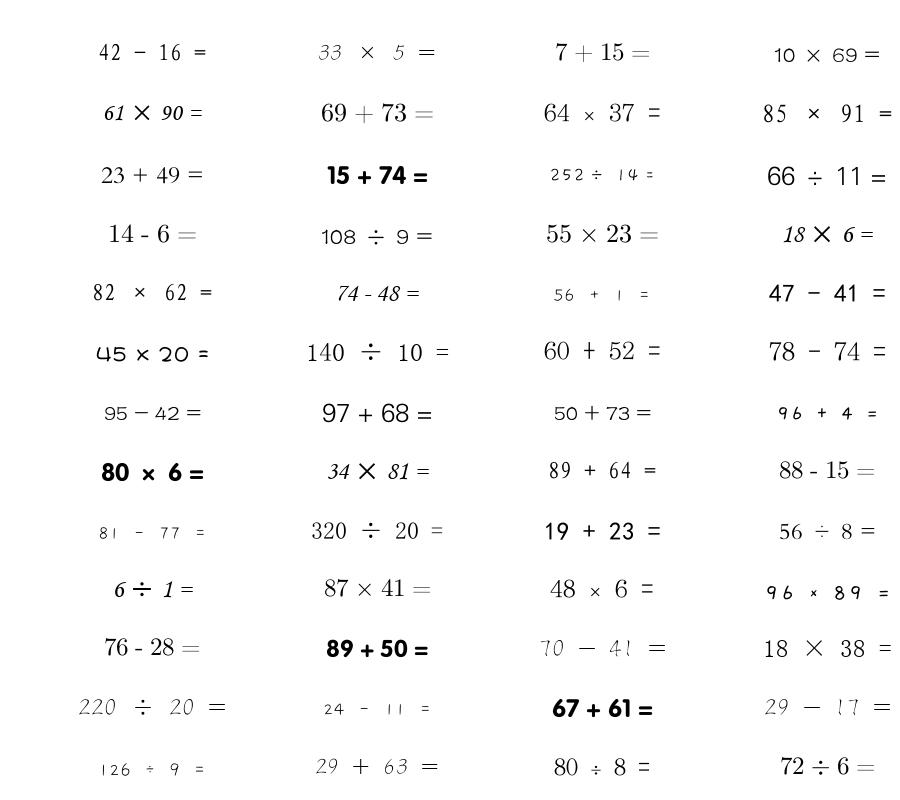MQ: (306, 343, 449, 361), (762, 104, 892, 123), (767, 166, 887, 186), (321, 103, 434, 124), (78, 699, 226, 715), (769, 341, 886, 361), (539, 639, 666, 657), (311, 522, 443, 539), (544, 103, 661, 122), (544, 341, 661, 360), (322, 403, 433, 423), (763, 640, 892, 657), (92, 283, 212, 301), (764, 699, 891, 716), (546, 224, 659, 243), (769, 284, 886, 302), (544, 522, 661, 540), (101, 462, 204, 482), (327, 165, 428, 185), (552, 698, 653, 718), (315, 758, 439, 774), (550, 579, 654, 598), (98, 43, 206, 61), (548, 461, 656, 479), (326, 639, 428, 658), (324, 579, 431, 597), (764, 585, 891, 600), (555, 43, 650, 63), (318, 44, 436, 60), (96, 346, 209, 362), (321, 229, 433, 245), (101, 167, 204, 184), (326, 463, 429, 480), (779, 461, 875, 479), (104, 638, 200, 656), (554, 758, 650, 776), (780, 757, 875, 775), (108, 224, 197, 243), (779, 523, 876, 540), (102, 105, 202, 121), (781, 226, 873, 243), (554, 405, 651, 421), (98, 763, 206, 777), (774, 48, 880, 62), (549, 168, 655, 182), (104, 406, 201, 421), (776, 406, 879, 420), (98, 527, 207, 540), (323, 703, 432, 716), (112, 581, 193, 598), (553, 288, 651, 302), (335, 285, 419, 301)
